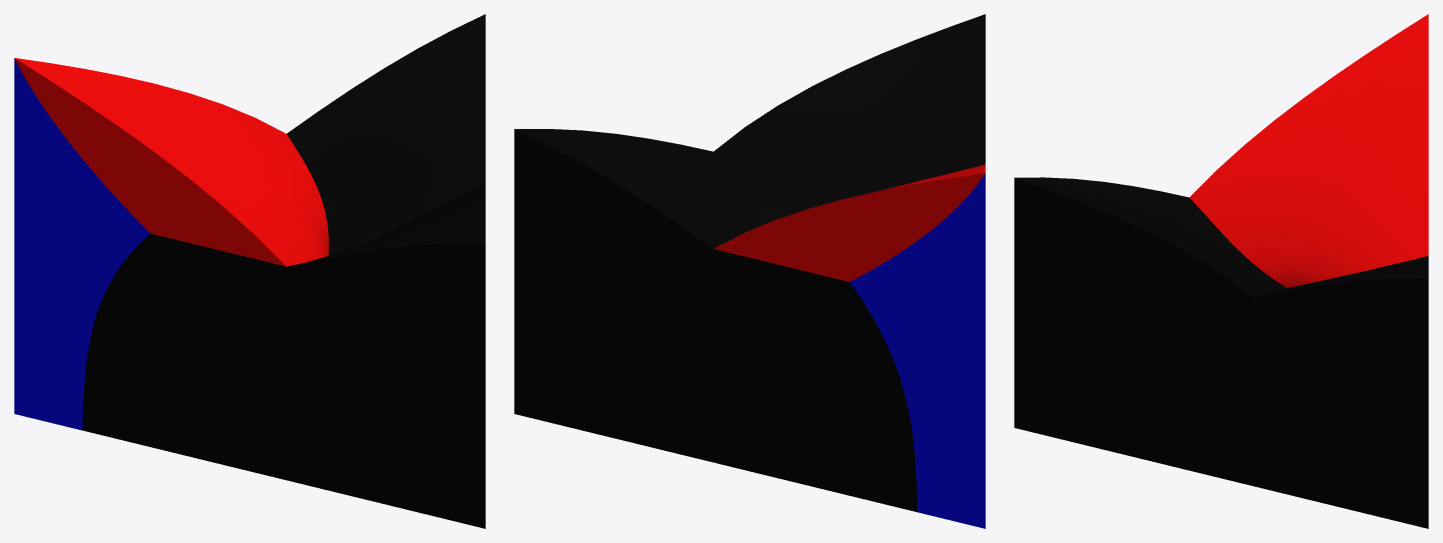
The model's file is tpd.gltf.
The picture shows the model from 3 angles, left to right: view 1: azimuth 30°, elevation 25°; view 2: azimuth 150°, elevation 25°; view 3: azimuth 270°, elevation 25°; orthographic projection. The views are drawn at different scales.
Parts seen in each view (by area): view 1: Node; view 2: Node; view 3: Node.
Boxes of the visible parts, <box> form: Node: <box>14,14,485,528</box>; Node: <box>514,14,985,528</box>; Node: <box>1014,14,1428,528</box>.
Size of the model in its own units: 2.46 by 1.78 by 2.13.
